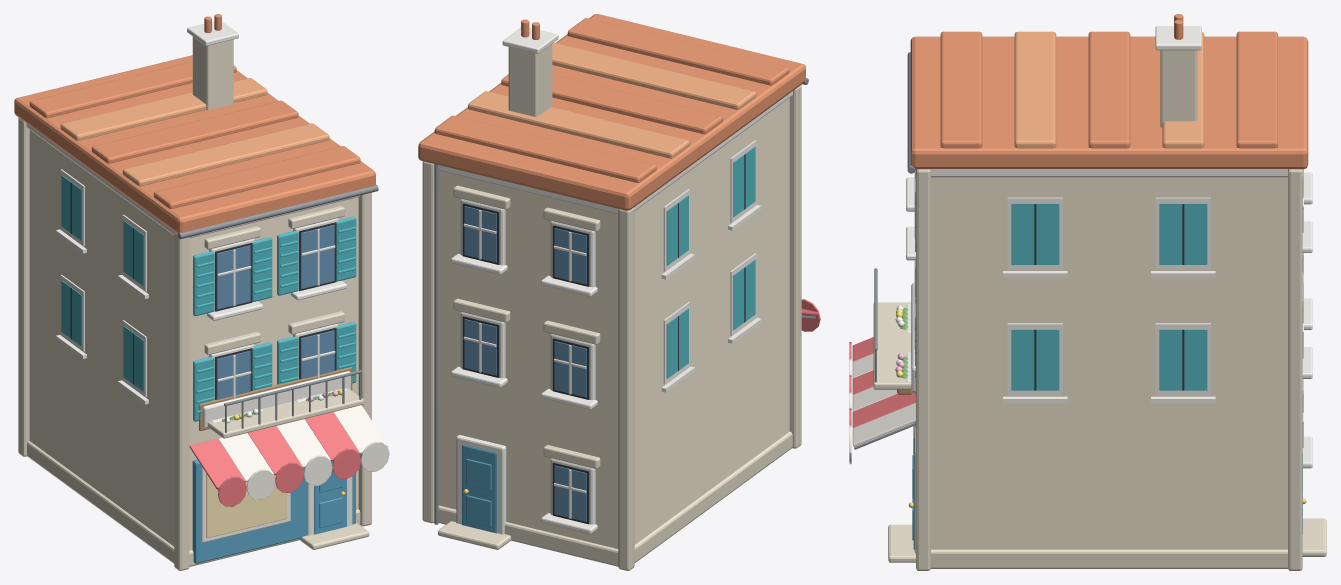
File: terrace_b.fbx
3 renders of one model, left to right at view 1: azimuth 30°, elevation 25°; view 2: azimuth 150°, elevation 25°; view 3: azimuth 270°, elevation 25°, orthographic. The views are drawn at different scales.
Visible parts, largest first — view 1: Visual; view 2: Visual; view 3: Visual.
Part boxes in pixels (bbox=[...]): Visual: bbox=[14, 14, 389, 570]; Visual: bbox=[418, 14, 820, 570]; Visual: bbox=[849, 14, 1326, 570].
Size of what is drawn, in the model's own units: 590 by 1256 by 1032.
